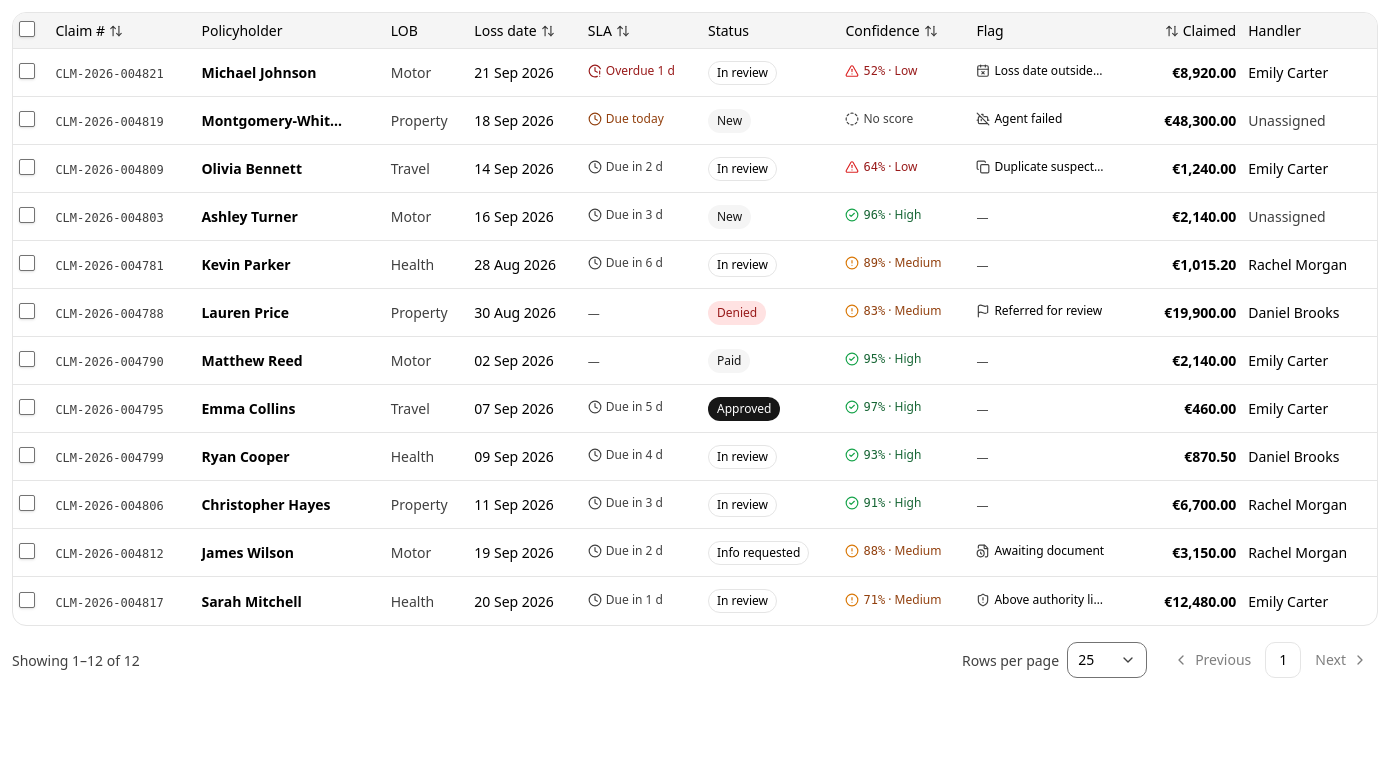
ClaimsTable › selection › bulk approve is blocked by a Low claim with the reason shown and unblocked when it is deselected
Click the checkbox named "Select CLM-2026-004803" at (27, 215), box [19,207,35,223]
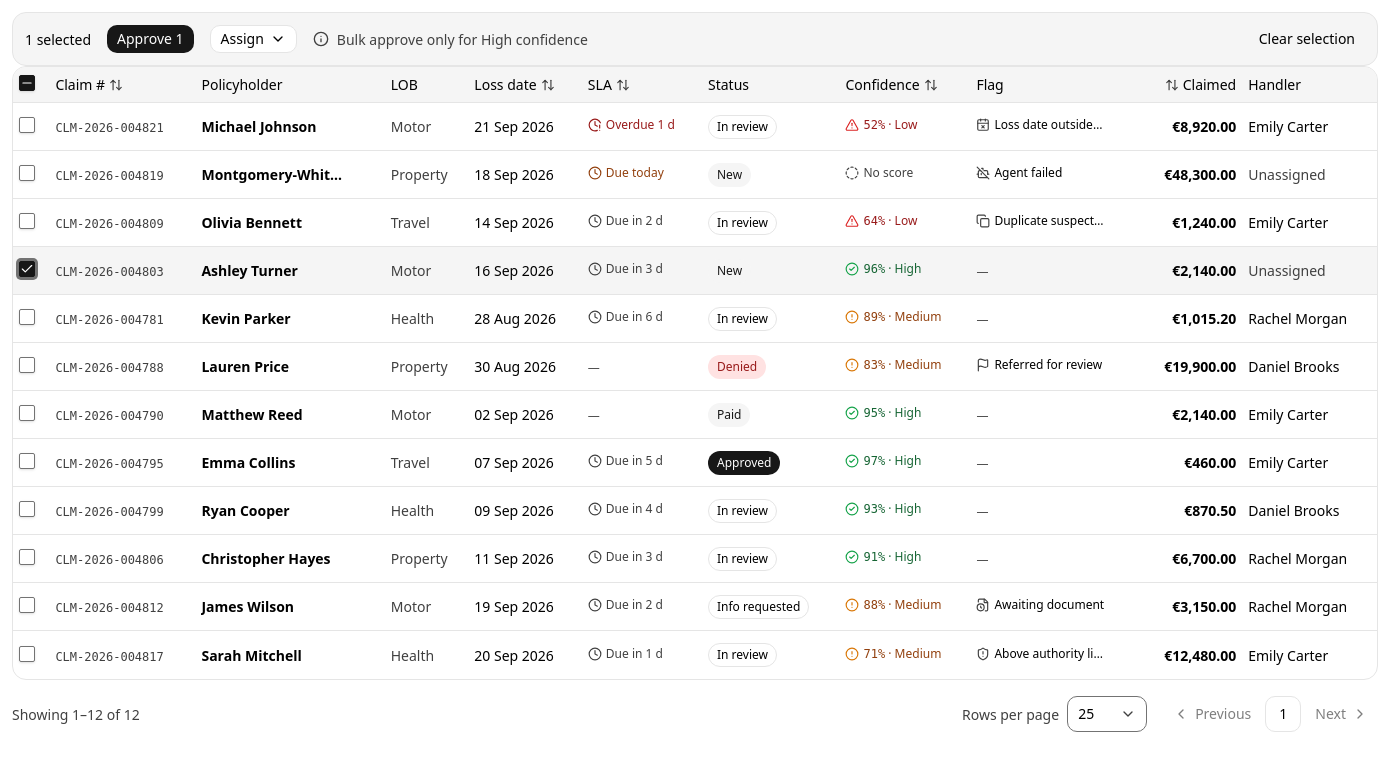
Click the checkbox named "Select CLM-2026-004821" at (27, 125), box [19,117,35,133]
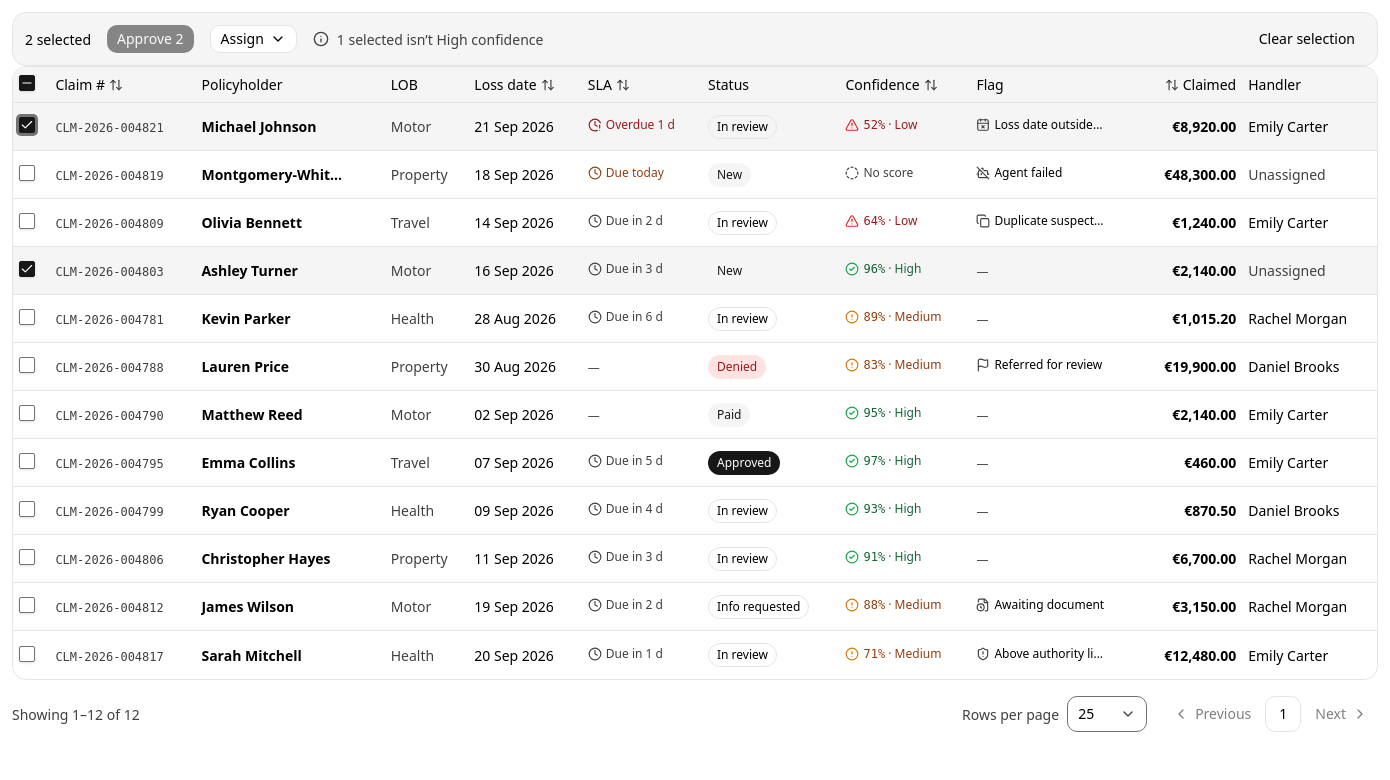
Expected: the text "2 selected" is shown, [25,28,91,50]
Expected: the button "Approve 2" is disabled, [107,25,194,53]
Expected: the text "1 selected isn’t High confidence" is shown, [313,28,543,50]
Click the checkbox named "Select CLM-2026-004821" at (27, 125), box [19,117,35,133]
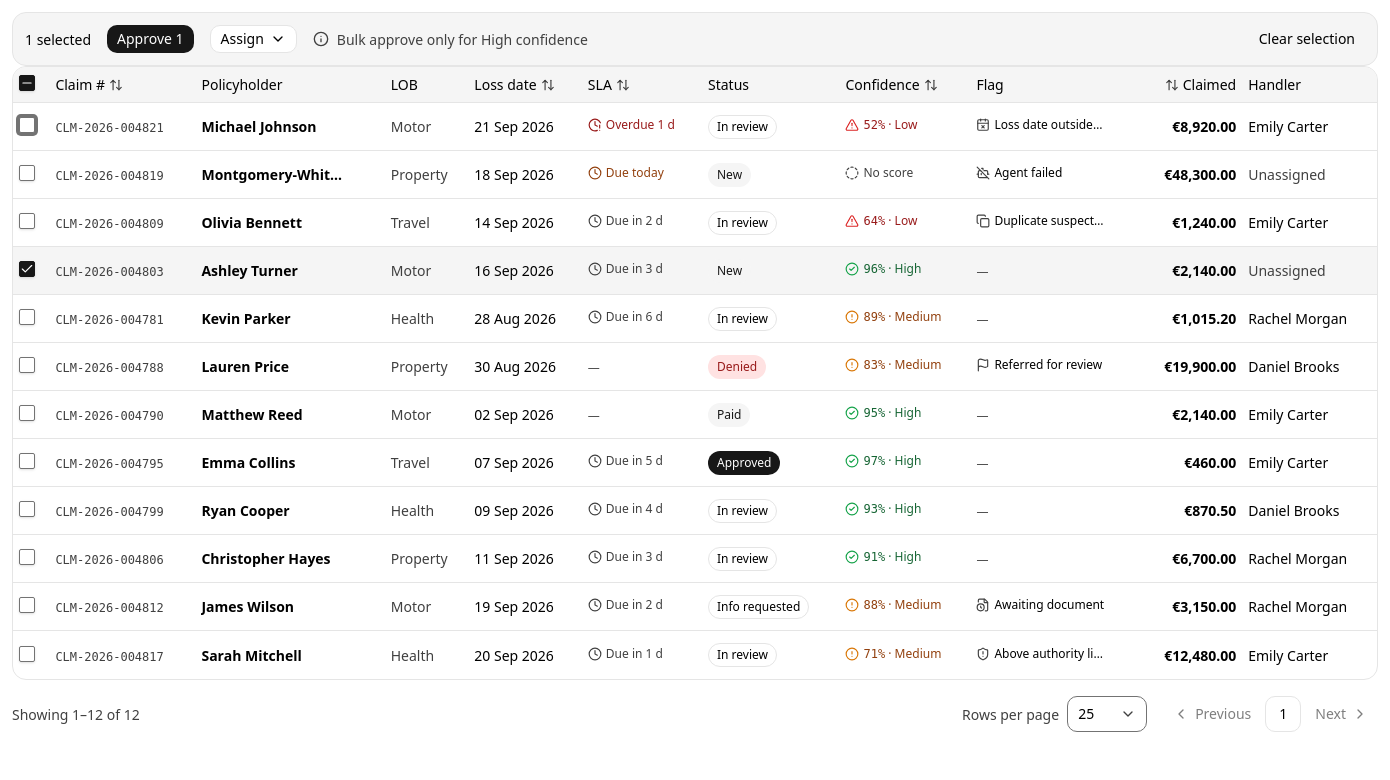
Expected: the button "Approve 1" is enabled
Expected: the text "Bulk approve only for High confidence" is shown, [313,28,588,50]
Click the button "Approve 1" at (150, 39), box [107,25,194,53]
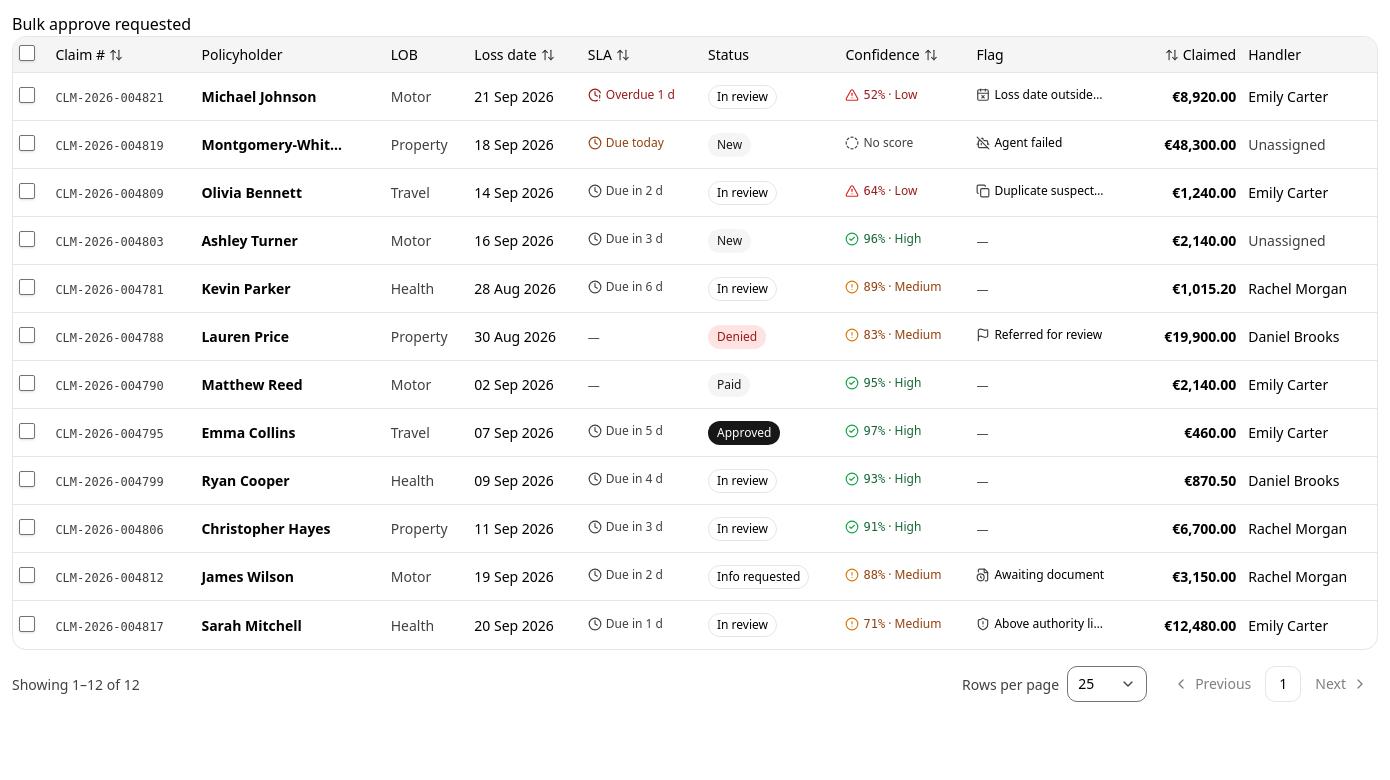
Expected: the text "Bulk approve requested" is shown, [12,13,191,35]
